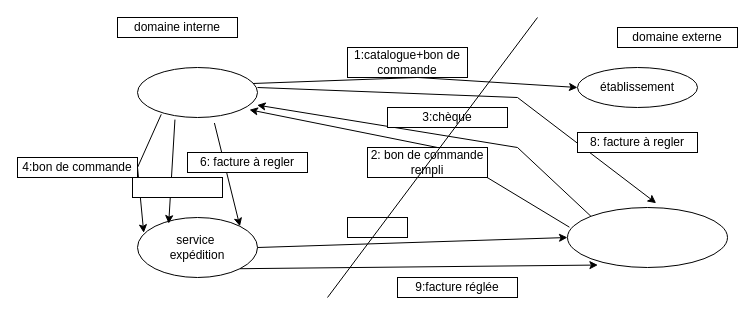
This 755x316 diagram has some shape labels left out. The centre of each missing label's shape, as x and y in pixels:
"5: facture réglée" belongs at point (177, 187).
"7: colis" belongs at point (377, 227).
"professeur" belongs at point (647, 237).
"secrétariat" belongs at point (197, 92).
